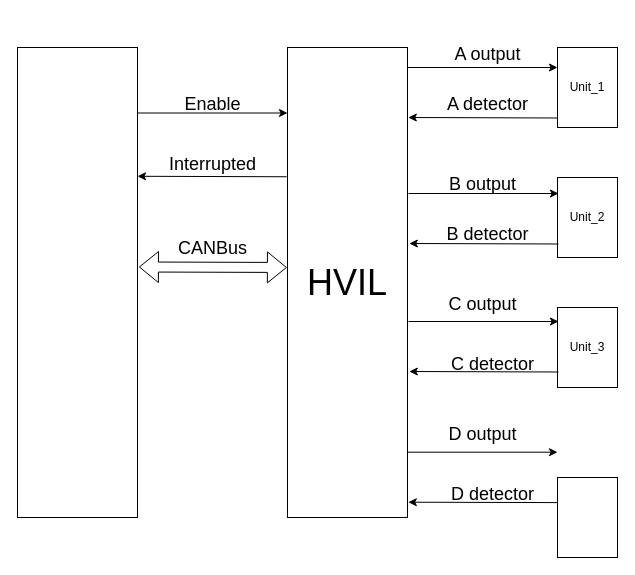
This 635x575 diagram has some shape labels left out. The shapes that lost their labels are listed below. From the top down, each one's box as (x1, y1, x2, y2) in pixels, then its label:
(16, 46, 138, 518): VCU
(556, 476, 618, 558): Unit_4
